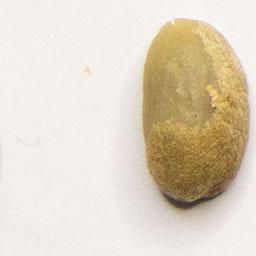longberry: (138, 13, 253, 208)
